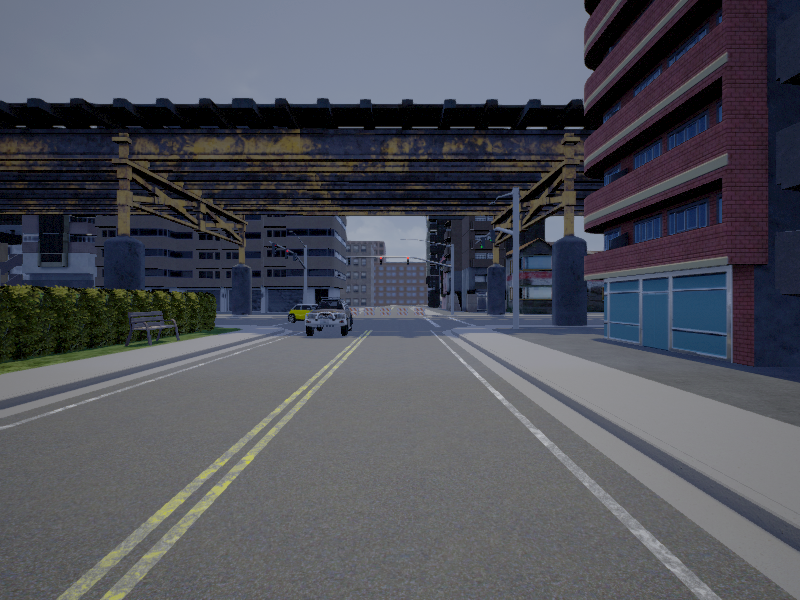Benign: (307, 301, 353, 332), (287, 303, 323, 323)
